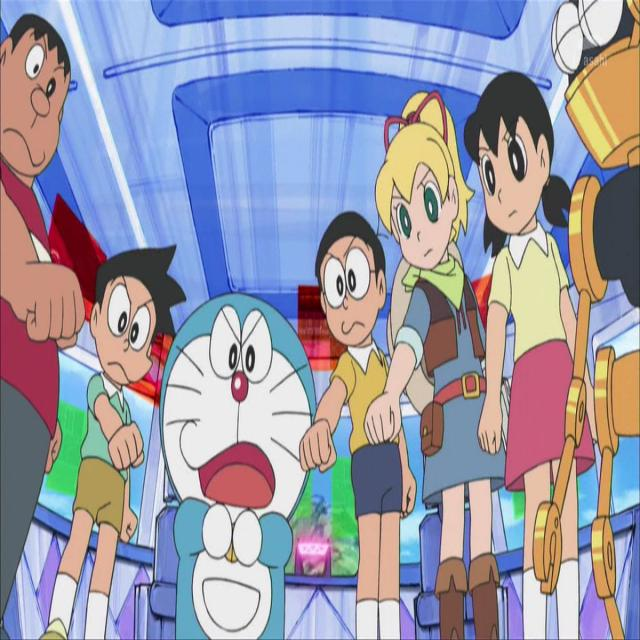doraemon: (153, 274, 330, 595)
nobita: (311, 202, 400, 400)
shizuka: (462, 50, 576, 289)
suneo: (71, 223, 186, 460)
